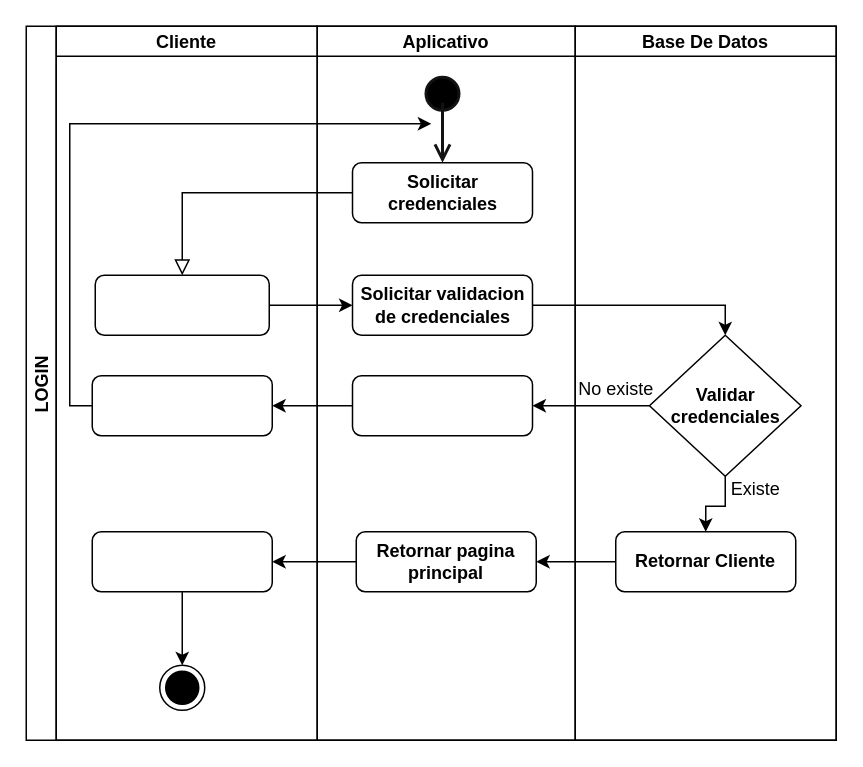
This 863x767 diagram has some shape labels left out. The shapes that lost their labels are listed below. From the top down, each one's centre as x and y in pixels, then its label:
At pixel 181 304: "Digitar credenciales".
At pixel 181 405: "Recibir error de credenciales".
At pixel 441 405: "Notificar error".
At pixel 181 561: "Obtener pagina principal".
